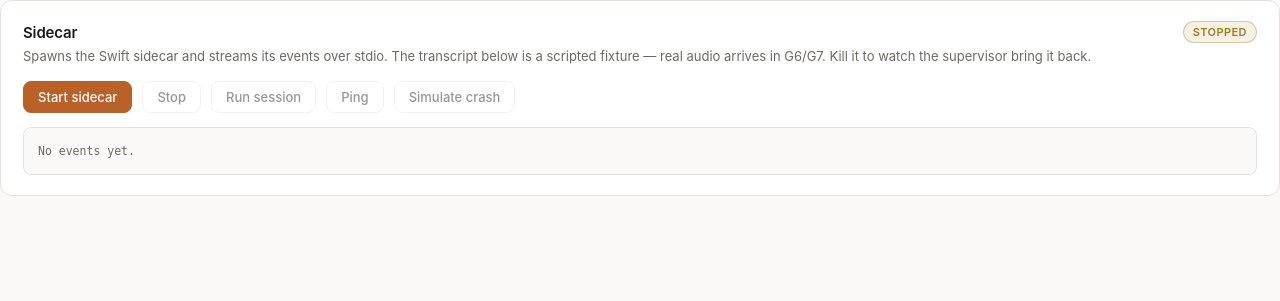
Test case: SidecarCard › shows a crash and the scheduled restart, then recovers on the next ready
The width and height of the screenshot is (1280, 301).
Click the button "Start sidecar". click: x=78, y=96
box: [23,80,132,112]
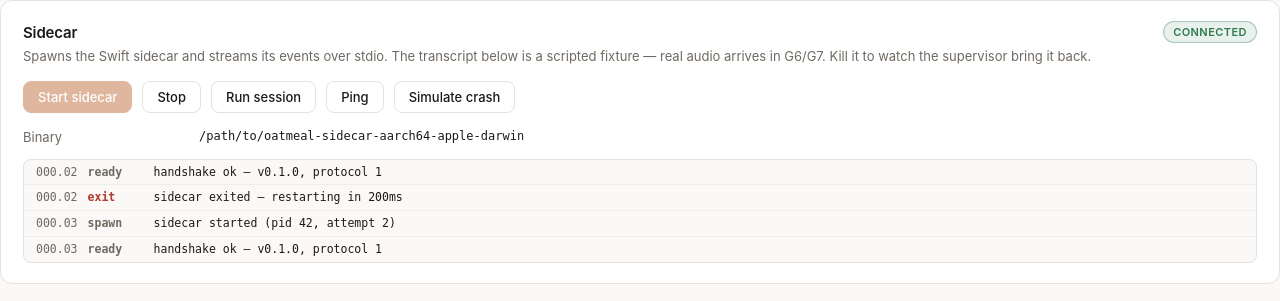
Expected: the text "sidecar exited — restarting in 200ms" is shown, [154,190,403,204]
Expected: the text "sidecar started (pid 42, attempt 2)" is shown, [154,216,396,230]
Expected: the text "connected" is shown, [1163,21,1257,43]
